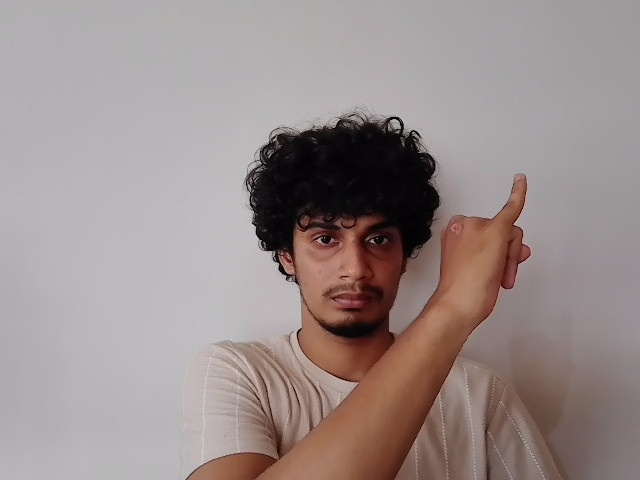bad: (438, 174, 539, 324)
